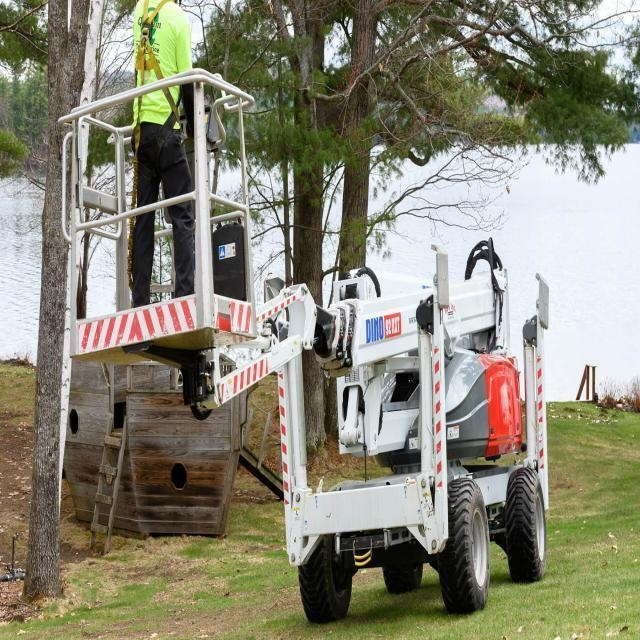Arnes_seguridad: (125, 0, 184, 282), (134, 0, 188, 174), (133, 0, 176, 78)
